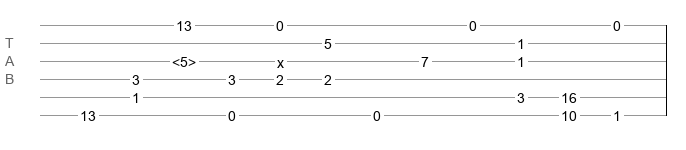0: (228, 108, 236, 118), (276, 18, 284, 28), (373, 108, 381, 118), (469, 18, 477, 28), (613, 18, 621, 28)
1: (132, 90, 140, 100), (517, 36, 525, 46), (517, 54, 525, 64), (613, 108, 621, 118)
10: (561, 108, 577, 118)
13: (80, 108, 96, 118), (176, 18, 192, 28)
16: (561, 90, 577, 100)
2: (276, 72, 284, 82), (324, 72, 332, 82)
3: (132, 72, 140, 82), (228, 72, 236, 82), (517, 90, 525, 100)
5: (324, 36, 332, 46)
7: (421, 54, 429, 64)
harmonic: (172, 54, 196, 64)
x: (277, 55, 284, 63)
